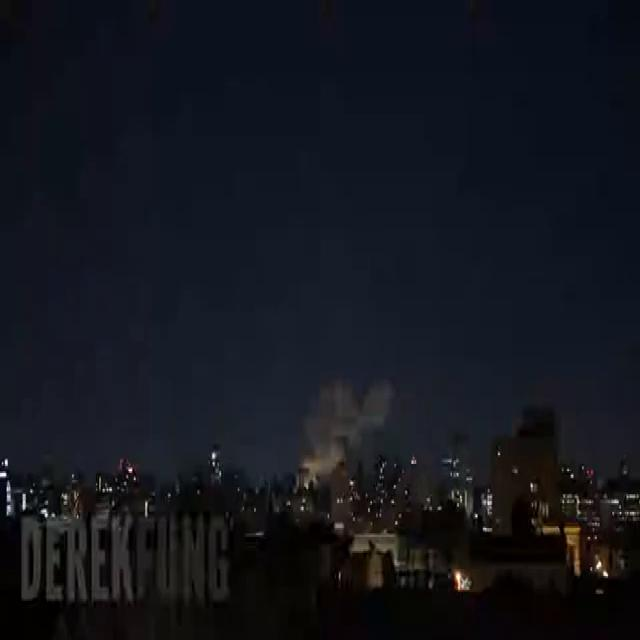smoke: (299, 380, 393, 478)
